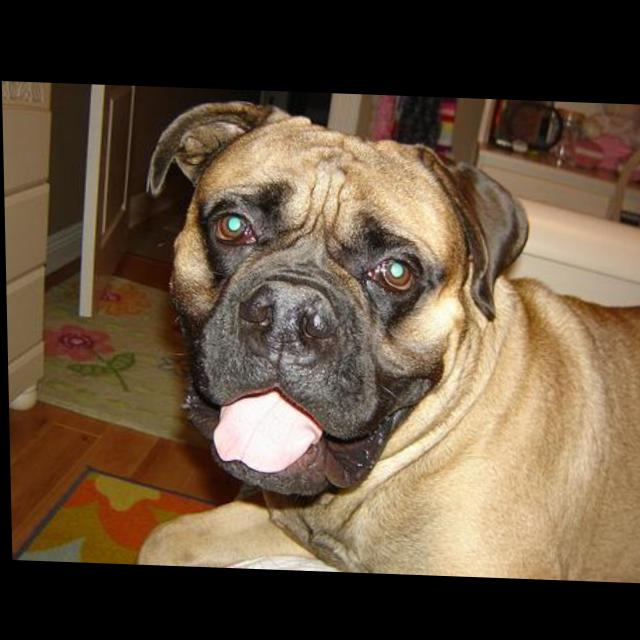bullmastiff: (127, 94, 640, 579)
